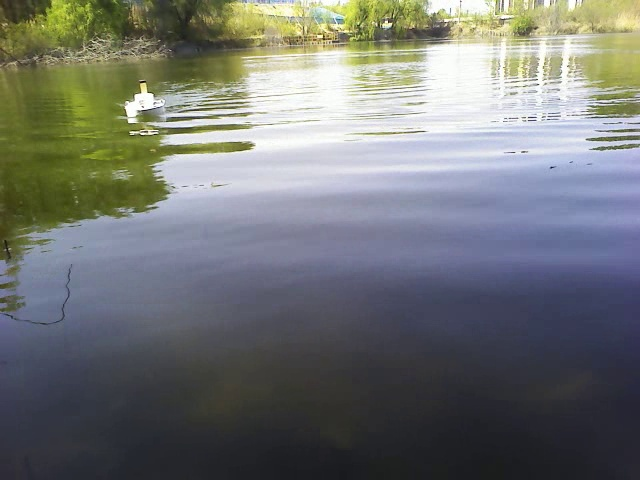boat: (126, 86, 169, 123)
